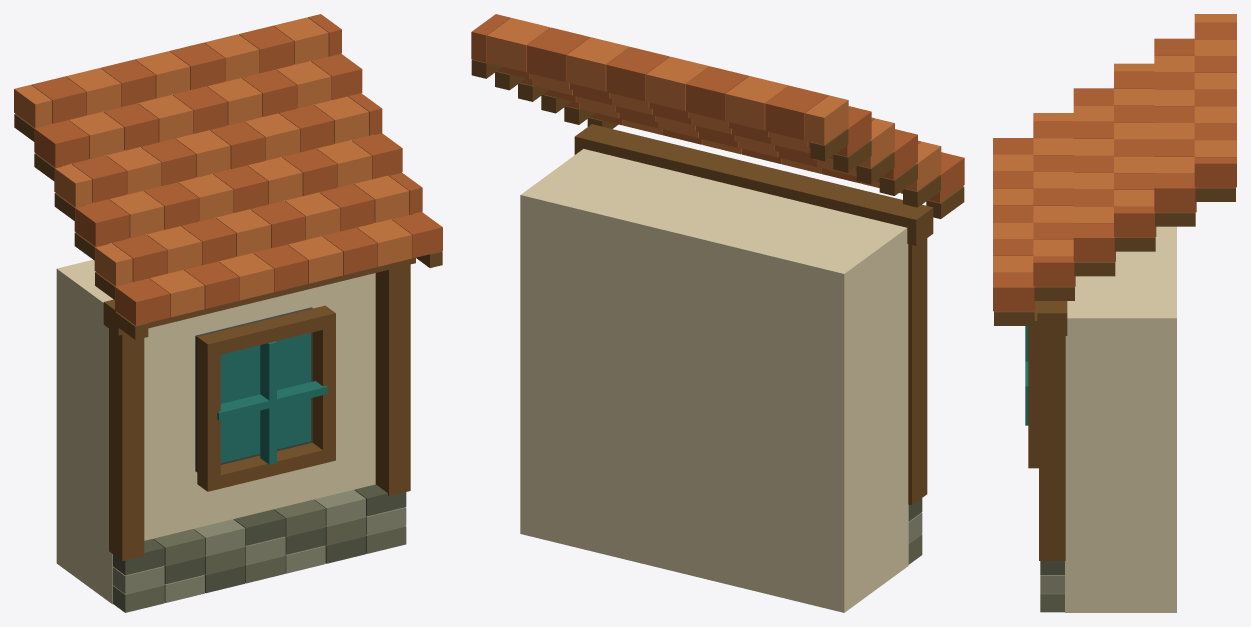
File: SM_DC_Cottage_Coarse.fbx
3 renders of one model, left to right at view 1: azimuth 30°, elevation 25°; view 2: azimuth 150°, elevation 25°; view 3: azimuth 270°, elevation 25°, orthographic. The views are drawn at different scales.
Visible parts, largest first — view 1: SM_DC_Cottage_Coarse; view 2: SM_DC_Cottage_Coarse; view 3: SM_DC_Cottage_Coarse.
Boxes of the visible parts, x1=… form: SM_DC_Cottage_Coarse: x1=14, y1=14, x2=442, y2=612; SM_DC_Cottage_Coarse: x1=471, y1=14, x2=964, y2=612; SM_DC_Cottage_Coarse: x1=993, y1=14, x2=1236, y2=612.
Size of the model in its own units: 2.4 by 1.65 by 3.4.
